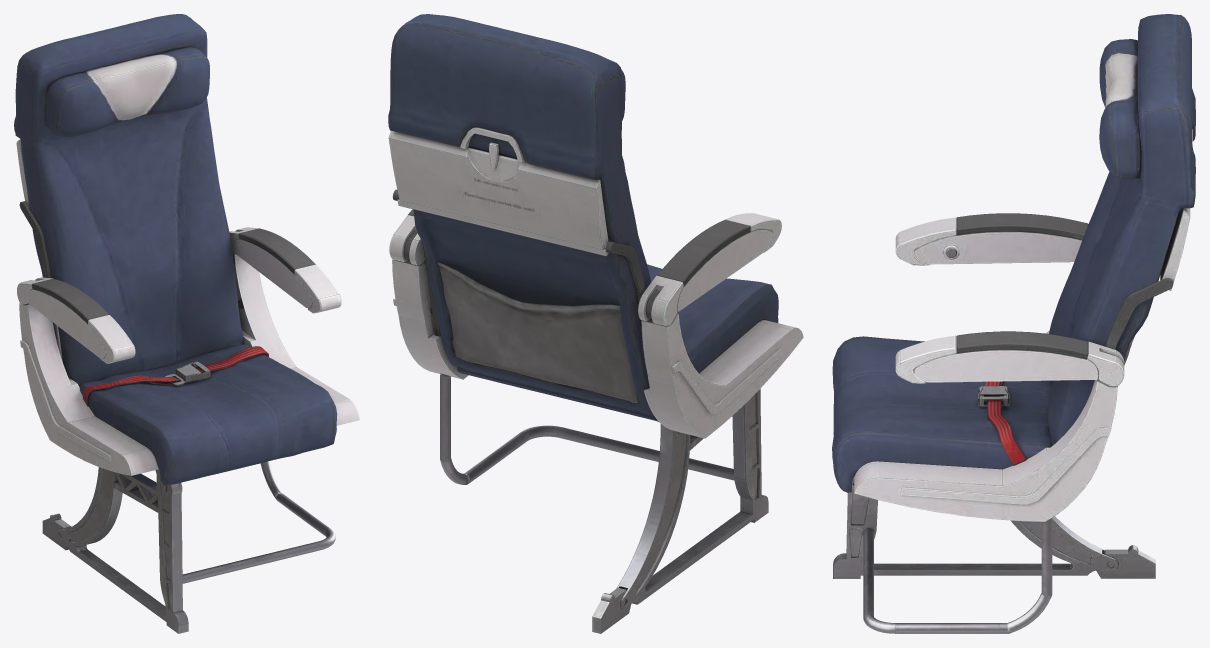
Rendered from airplane-seat.compressed.glb.
3 renders of one model, left to right at view 1: azimuth 30°, elevation 25°; view 2: azimuth 150°, elevation 25°; view 3: azimuth 270°, elevation 25°, orthographic. The views are drawn at different scales.
Visible parts, largest first — view 1: Poshti_low, Ziri_low, structure1 _low_chair_0, structure3 _low_chair_0, Sari_low, structure2 _low_chair_0, Belt_low, Sagak_low; view 2: Poshti_low, structure3 _low_chair_0, structure1 _low_chair_0, Packet_low, structure2 _low_chair_0, Ziri_low; view 3: Poshti_low, structure1 _low_chair_0, Ziri_low, structure3 _low_chair_0, structure2 _low_chair_0, Sari_low, Belt_low, Sagak_low.
Part boxes in pixels (x1,y1,x2,y2): Poshti_low: [14, 14, 243, 385]; Ziri_low: [79, 344, 337, 485]; structure1 _low_chair_0: [19, 201, 359, 475]; structure3 _low_chair_0: [16, 140, 312, 633]; Sari_low: [45, 46, 209, 137]; structure2 _low_chair_0: [17, 227, 341, 583]; Belt_low: [82, 346, 268, 406]; Sagak_low: [165, 361, 211, 385]; Poshti_low: [388, 14, 654, 416]; structure3 _low_chair_0: [388, 131, 772, 609]; structure1 _low_chair_0: [392, 189, 803, 438]; Packet_low: [437, 262, 638, 402]; structure2 _low_chair_0: [389, 127, 781, 633]; Ziri_low: [457, 264, 778, 421]; Poshti_low: [1047, 14, 1195, 445]; structure1 _low_chair_0: [854, 213, 1172, 521]; Ziri_low: [832, 336, 1052, 492]; structure3 _low_chair_0: [833, 208, 1190, 578]; structure2 _low_chair_0: [863, 129, 1192, 633]; Sari_low: [1099, 39, 1140, 179]; Belt_low: [985, 381, 1026, 465]; Sagak_low: [978, 386, 1009, 406].
Size of the model in its own units: 580 by 1150 by 670.
Materials: 1 (1 with a texture image).
